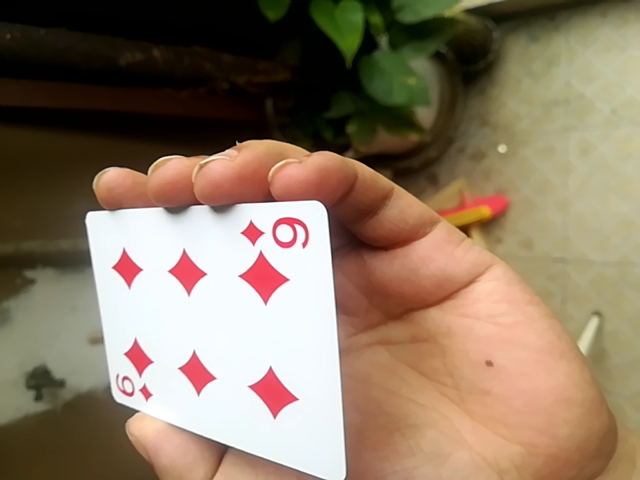fk 6: (83, 197, 345, 475)
